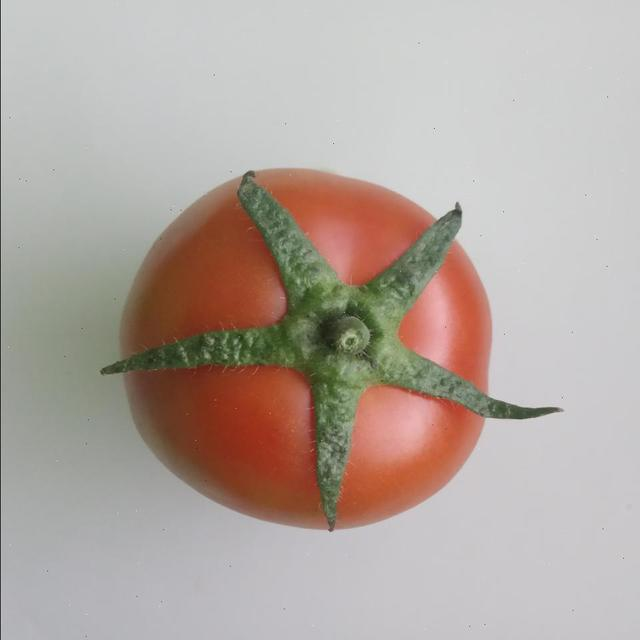Healthy Fruit: (73, 105, 335, 362)
